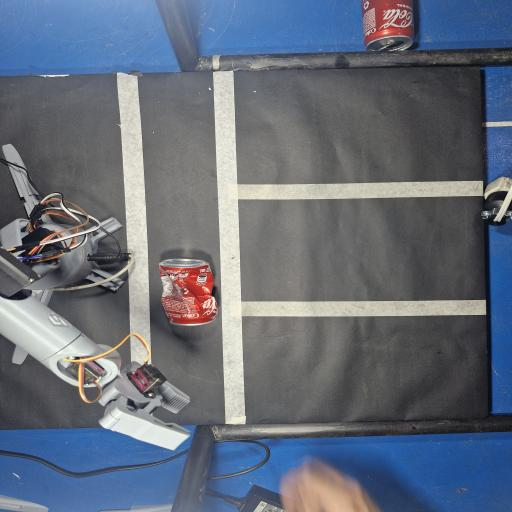lata_defectuoso: (159, 259, 217, 324)
